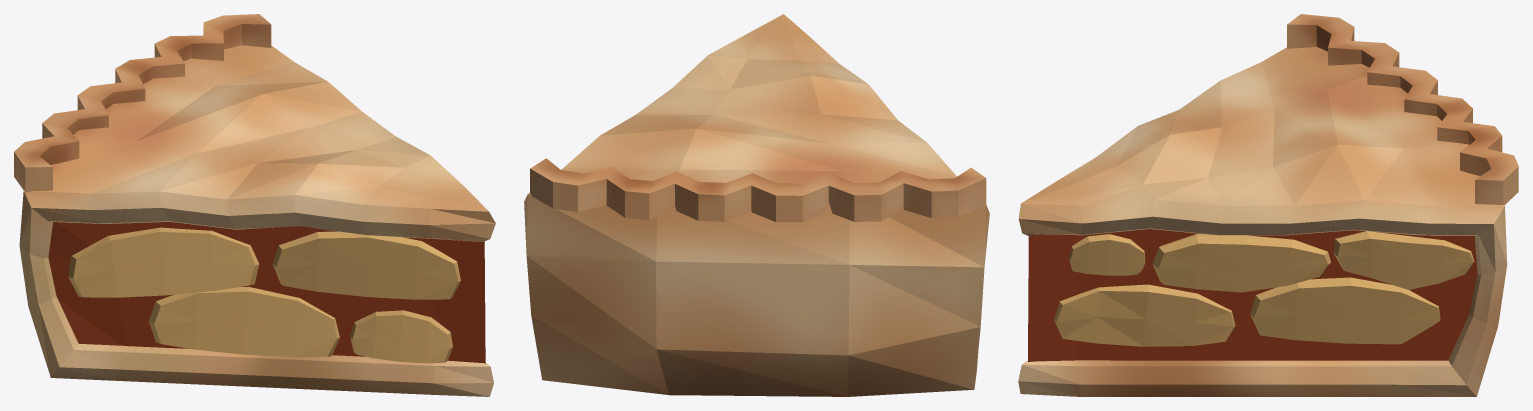
File: applePie.gltf
3 renders of one model, left to right at view 1: azimuth 30°, elevation 25°; view 2: azimuth 150°, elevation 25°; view 3: azimuth 270°, elevation 25°, orthographic. The views are drawn at different scales.
Visible parts, largest first — view 1: node-0; view 2: node-0; view 3: node-0.
Part boxes in pixels (x1,y1,x2,y2): node-0: [14, 14, 495, 396]; node-0: [524, 14, 989, 396]; node-0: [1018, 14, 1518, 396].
Size of the model in its own units: 2.27 by 1.32 by 2.78.
3 materials, 1 textured.
